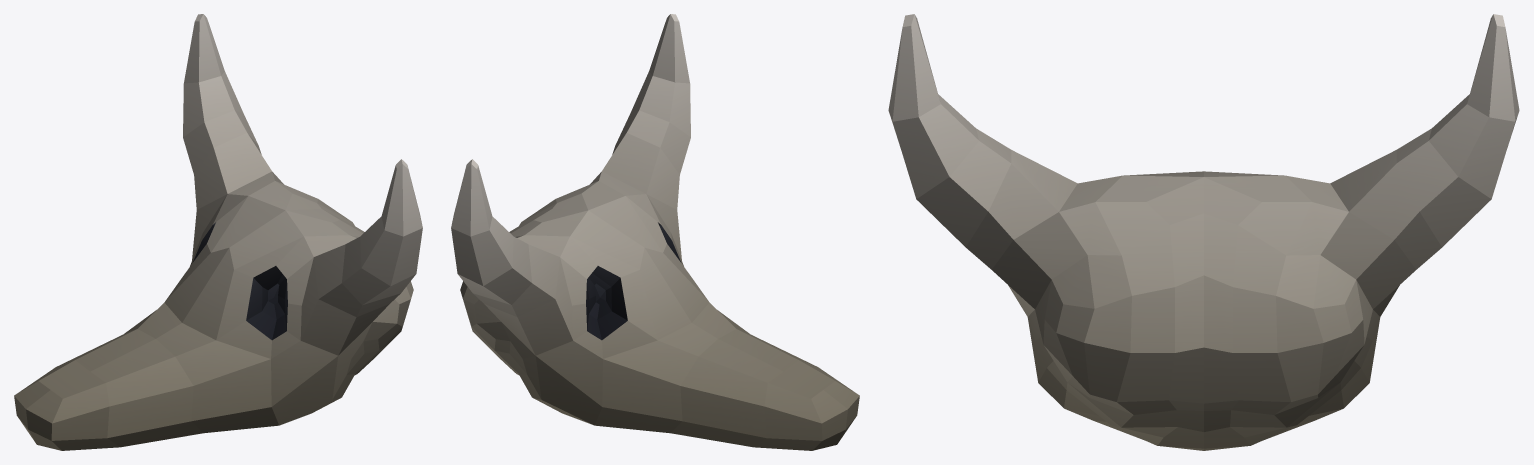
The model's file is skeleton_head.fbx.
The picture shows the model from 3 angles, left to right: view 1: azimuth 30°, elevation 25°; view 2: azimuth 150°, elevation 25°; view 3: azimuth 270°, elevation 25°; orthographic projection. The views are drawn at different scales.
Parts seen in each view (by area): view 1: Plane.001; view 2: Plane.001; view 3: Plane.001.
Part boxes in pixels (left/top/right/bottom): Plane.001: left=14, top=14, right=422, bottom=450; Plane.001: left=451, top=14, right=859, bottom=450; Plane.001: left=888, top=14, right=1519, bottom=450.
Size of the model in its own units: 205 by 164 by 216.
